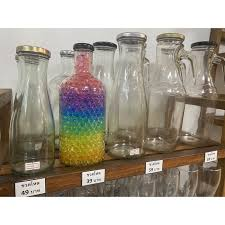glass_bottle: (4, 30, 221, 175)
